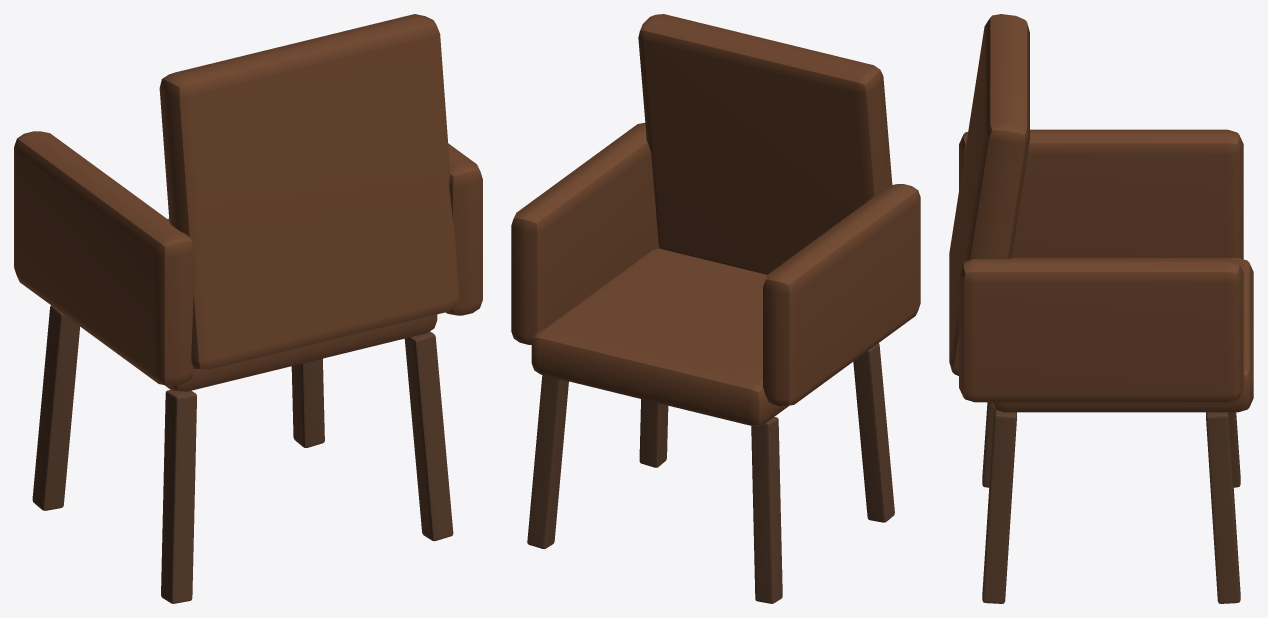
Rendered from bgd_ghe_khach.glb.
3 renders of one model, left to right at view 1: azimuth 30°, elevation 25°; view 2: azimuth 150°, elevation 25°; view 3: azimuth 270°, elevation 25°, orthographic. The views are drawn at different scales.
Visible parts, largest first — view 1: bgd_ghe_khach; view 2: bgd_ghe_khach; view 3: bgd_ghe_khach.
Boxes of the visible parts, x1,y1,x2,y2 form: bgd_ghe_khach: [14, 14, 482, 603]; bgd_ghe_khach: [511, 14, 920, 603]; bgd_ghe_khach: [949, 14, 1253, 603].
Bounding box in the file's own units: 0.68 × 1.03 × 0.5994.
